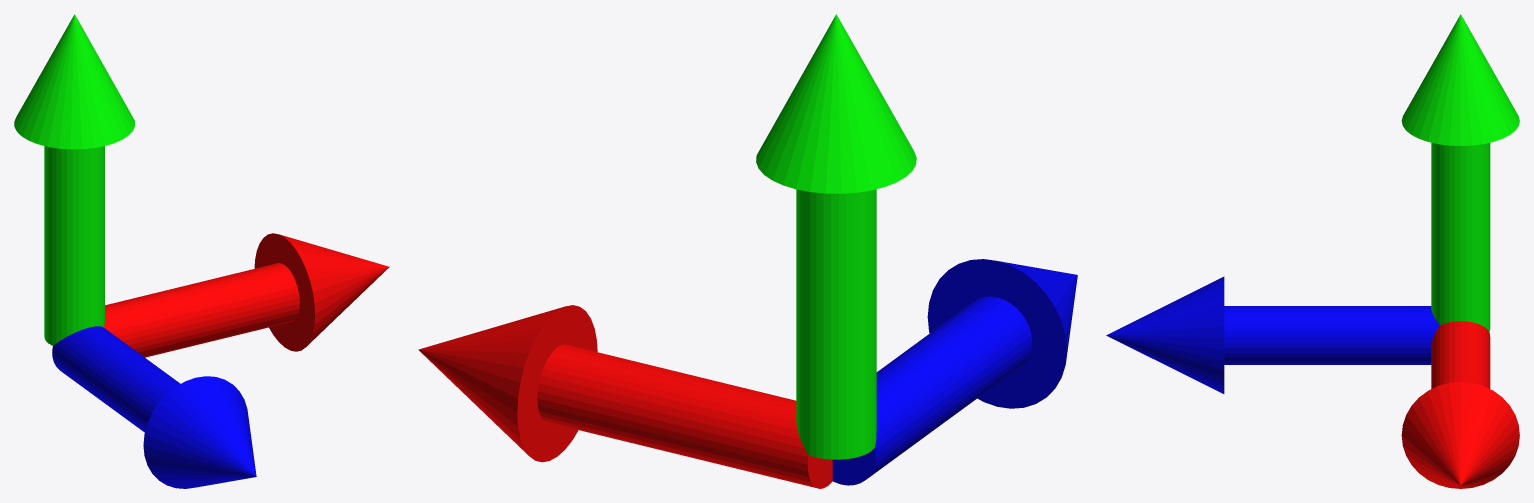
Rendered from 3d_axis.obj.
3 renders of one model, left to right at view 1: azimuth 30°, elevation 25°; view 2: azimuth 150°, elevation 25°; view 3: azimuth 270°, elevation 25°, orthographic. The views are drawn at different scales.
Parts seen in each view (by area): view 1: line.003, line, Cone.004, Cone.003, Cone, line.004; view 2: line, line.003, Cone.003, line.004, Cone, Cone.004; view 3: line.004, line.003, Cone, Cone.003, Cone.004, line.
Boxes of the visible parts, x1=… form: line.003: x1=44, y1=146, x2=104, y2=345; line: x1=104, y1=263, x2=299, y2=357; Cone.004: x1=143, y1=376, x2=256, y2=488; Cone.003: x1=14, y1=14, x2=135, y2=149; Cone: x1=254, y1=233, x2=389, y2=351; line.004: x1=52, y1=326, x2=180, y2=432; line: x1=537, y1=344, x2=832, y2=488; line.003: x1=796, y1=189, x2=876, y2=459; Cone.003: x1=756, y1=14, x2=916, y2=193; line.004: x1=832, y1=296, x2=1032, y2=485; Cone: x1=418, y1=305, x2=597, y2=462; Cone.004: x1=927, y1=259, x2=1077, y2=408; line.004: x1=1224, y1=306, x2=1439, y2=364; line.003: x1=1431, y1=142, x2=1490, y2=331; Cone: x1=1401, y1=382, x2=1519, y2=488; Cone.003: x1=1401, y1=14, x2=1519, y2=145; Cone.004: x1=1106, y1=276, x2=1224, y2=393; line: x1=1431, y1=321, x2=1490, y2=388.
Bounding box in the file's own units: 1.37 × 1.37 × 1.37.
Materials: 2 (2 with a texture image).
